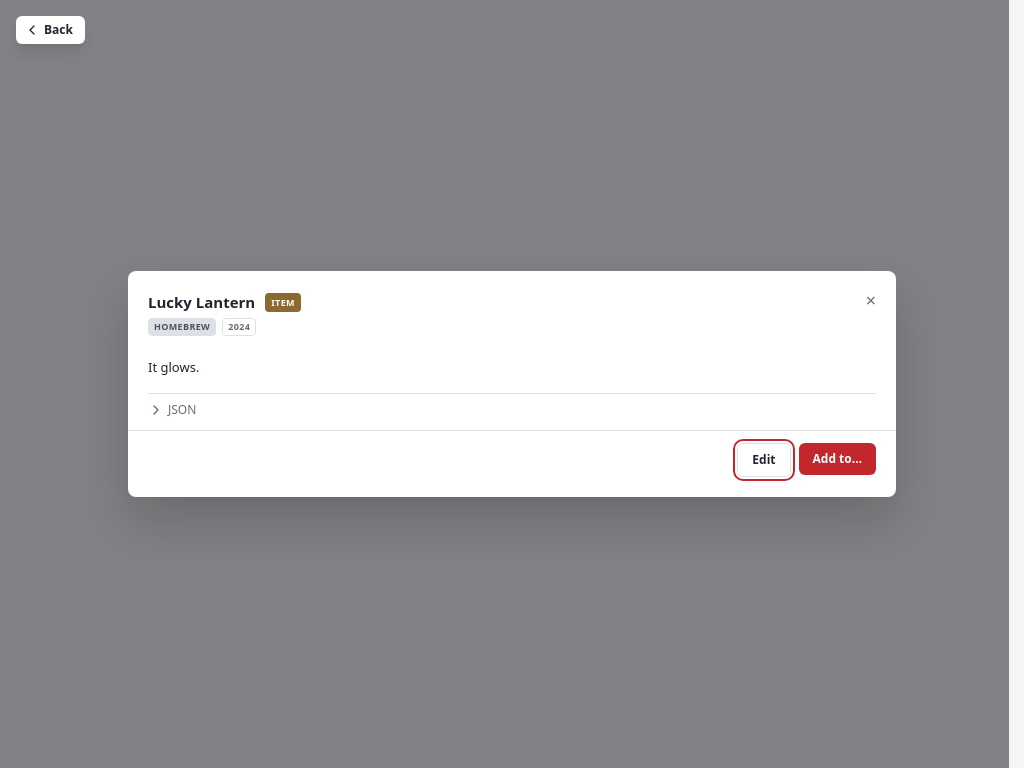
EditHomebrewButton › Undo in the editor opened from a sheet › is disabled until the row has been saved over
The width and height of the screenshot is (1024, 768).
Click the button "Edit": click(764, 460) [737,443,790,477]
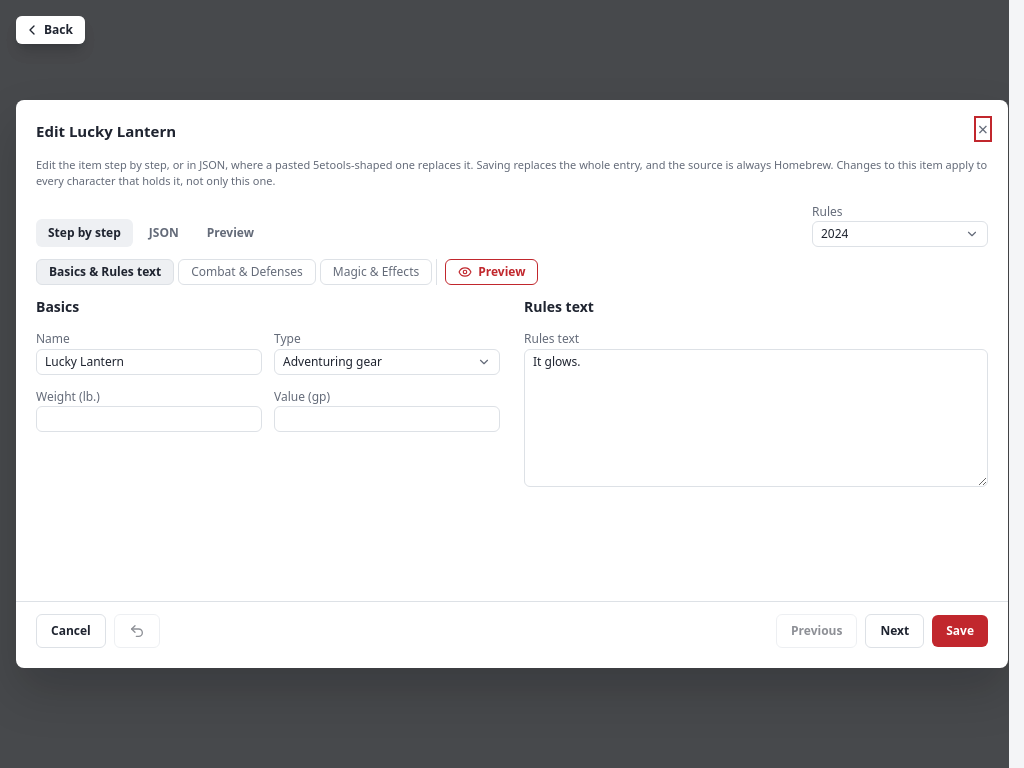
Expected: the 1st dialog is shown
